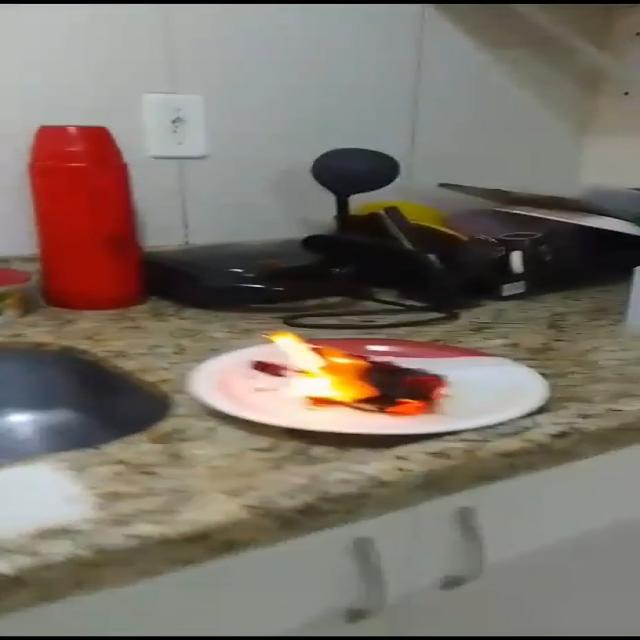fogo-ypXI: (263, 326, 450, 419)
